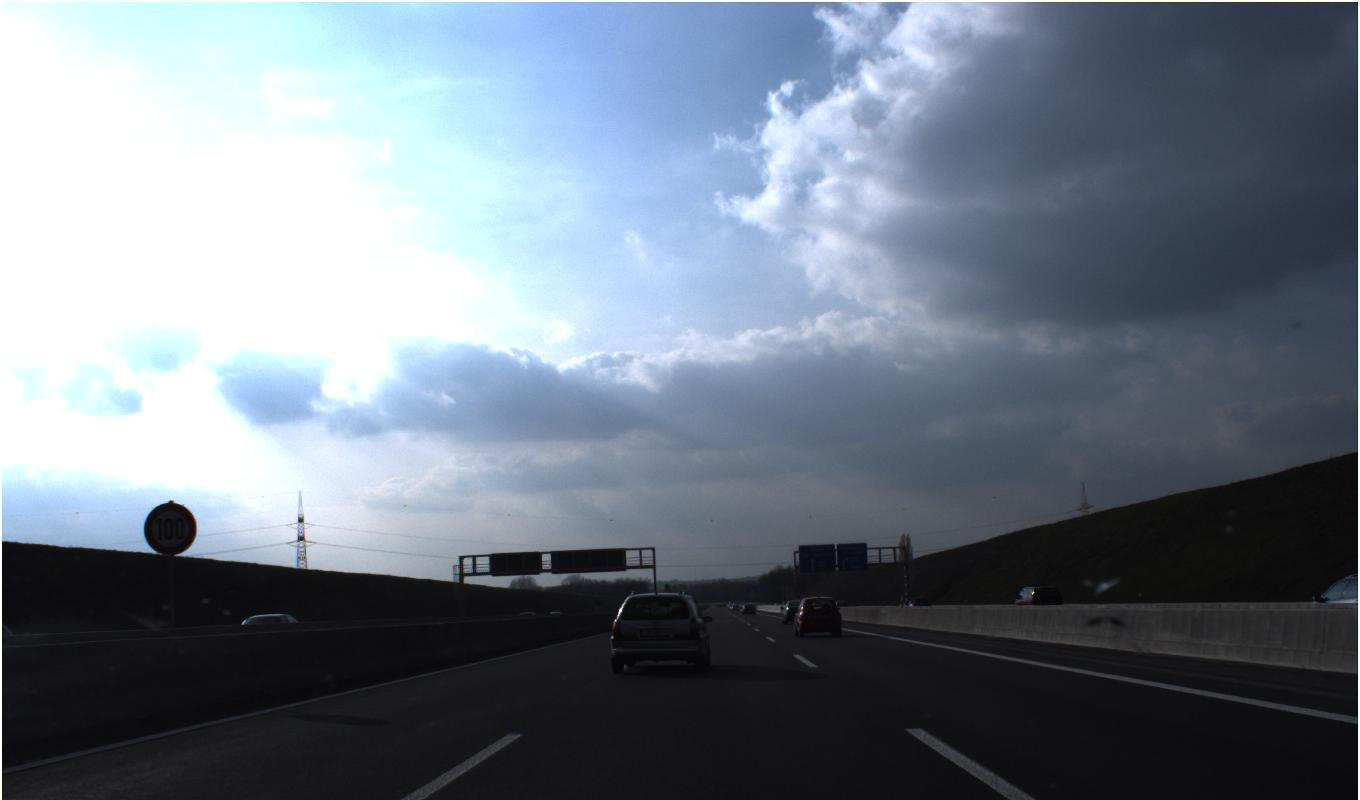speed limit 100 (prohibitory): (142, 501, 197, 556)
